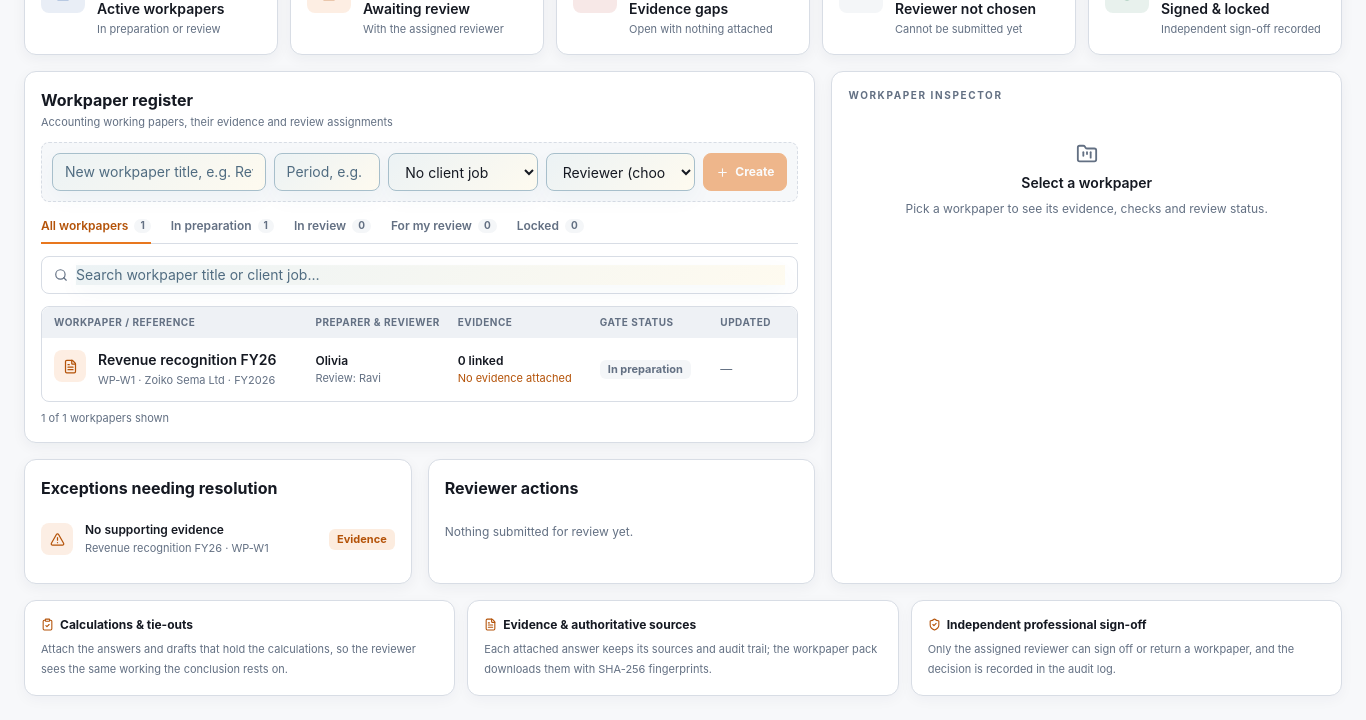
Test: Workpapers › attaches an item and submits for review as the owner
(page scrolled)
Click the text "Revenue recognition FY26" at [187, 360], box [98,350,276,370]
(page scrolled)
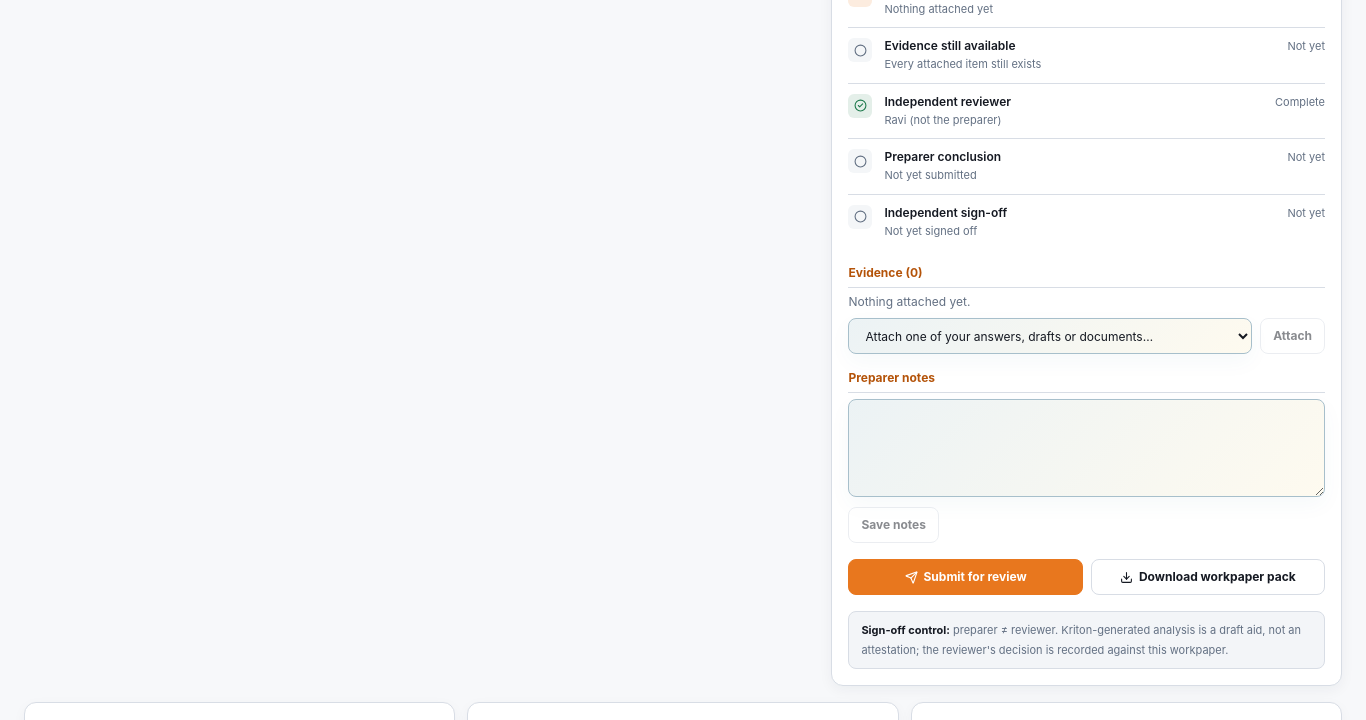
Select "Saved answer: IFRS 15 five steps?" in the dropdown named "Item to attach" at [1050, 336], box [848,318,1252,354]
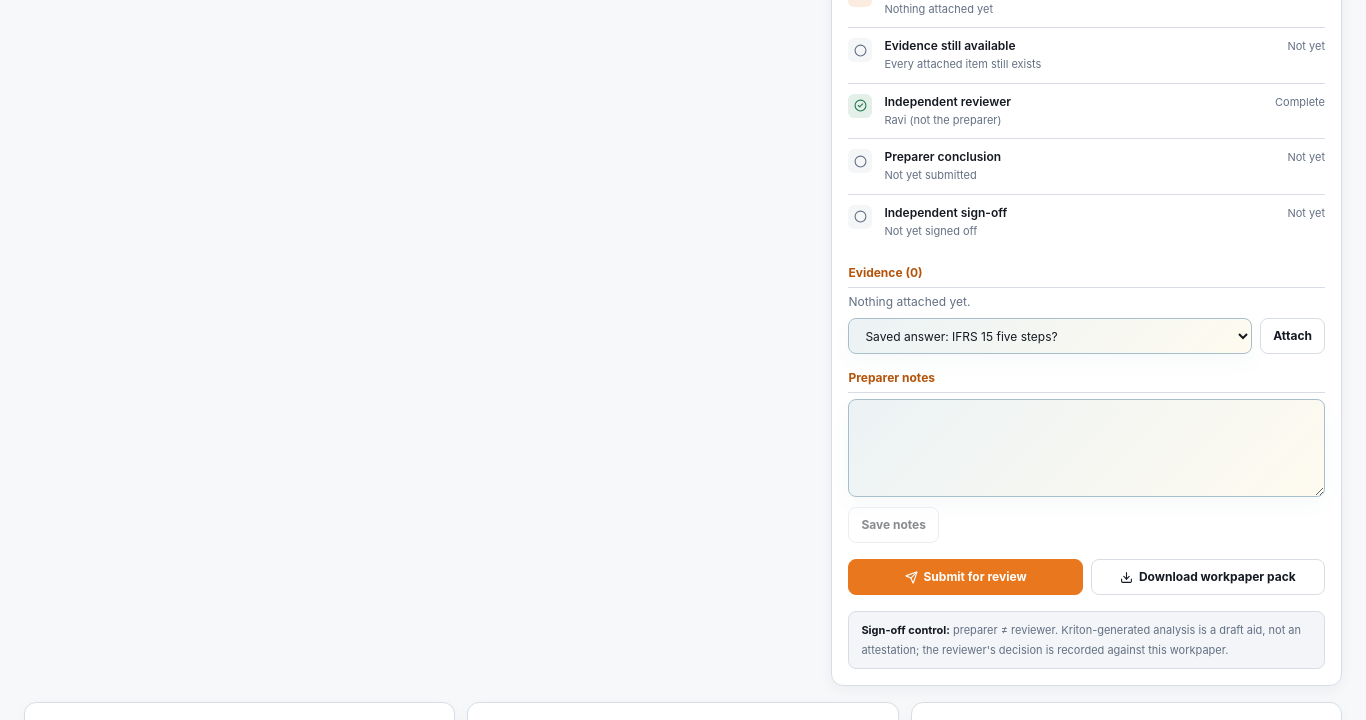
Click the button "Attach" at [1293, 336], box [1260,318,1325,354]
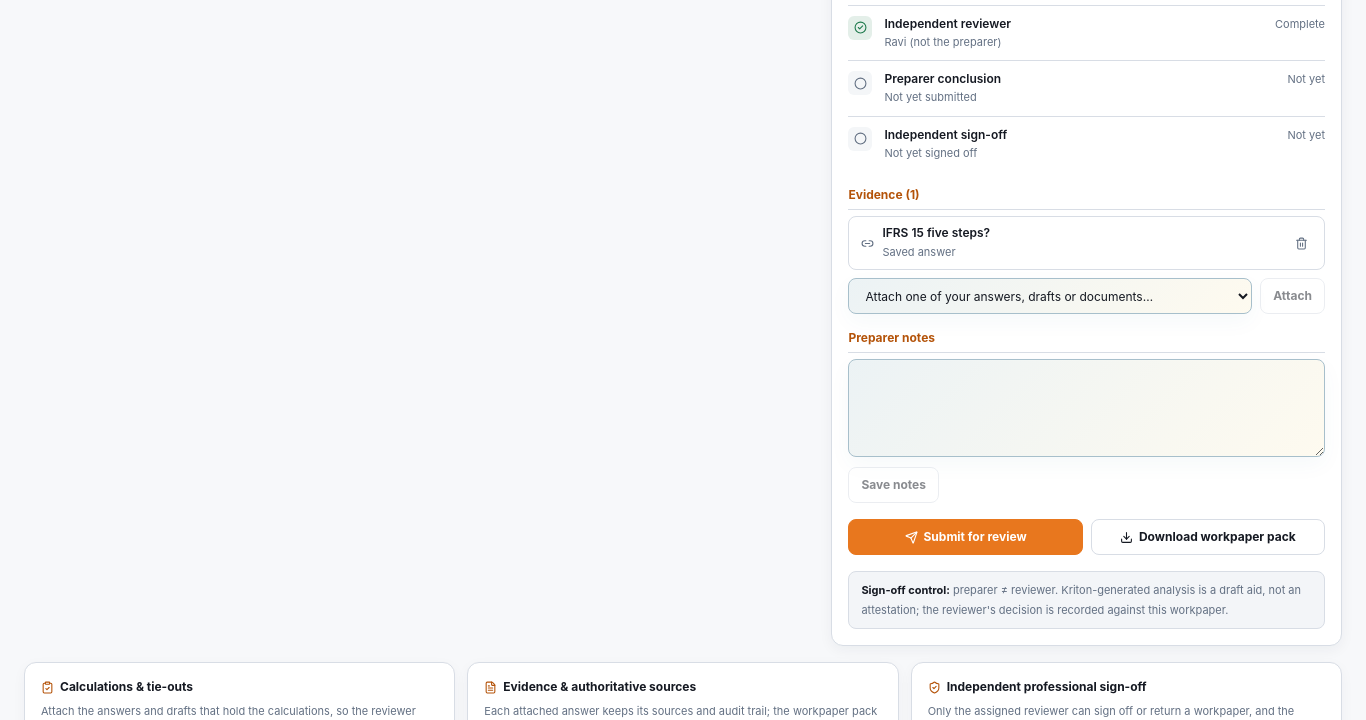
Click the button "Submit for review" at [966, 537], box [848,519,1083,555]
(page scrolled)
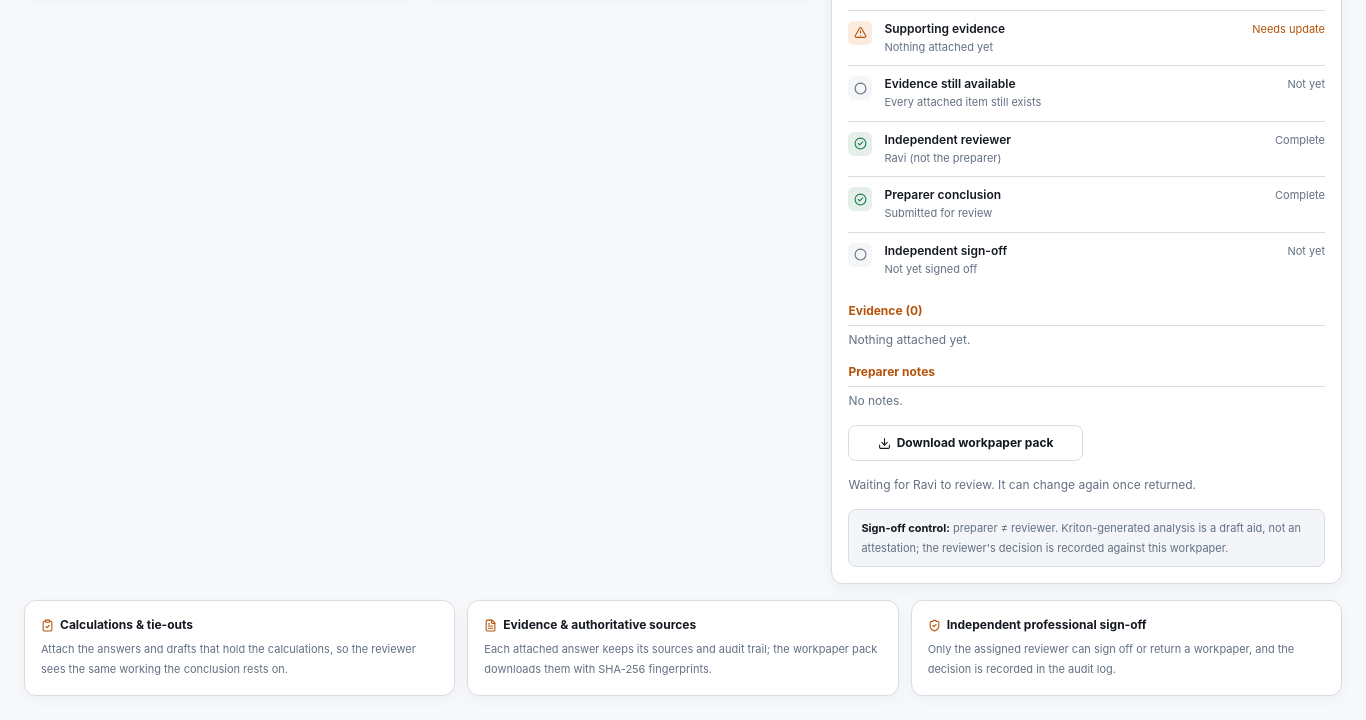
Expected: the text "Waiting for Ravi to review" is shown, [848,477,1196,492]
